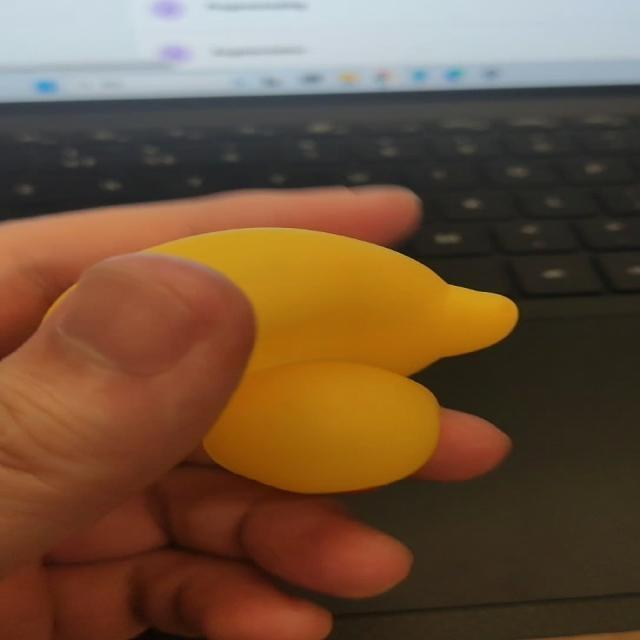rubber-duck: (144, 227, 516, 491)
